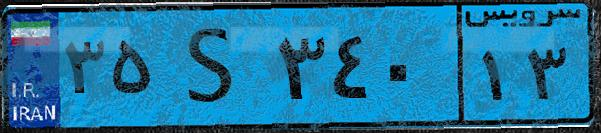0: (385, 28, 445, 110)
1: (475, 38, 525, 113)
3: (270, 28, 330, 110), (57, 26, 110, 100), (525, 38, 570, 115)
4: (330, 28, 385, 110)
5: (110, 28, 158, 98)
S: (158, 12, 270, 120)
